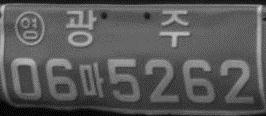0: (10, 57, 42, 102)
2: (143, 58, 180, 103), (218, 58, 254, 104)
5: (107, 58, 141, 102)
6: (181, 58, 215, 103), (45, 57, 77, 102)
광주_D: (64, 9, 191, 48)
마: (78, 61, 105, 98)
영: (14, 10, 45, 46)
